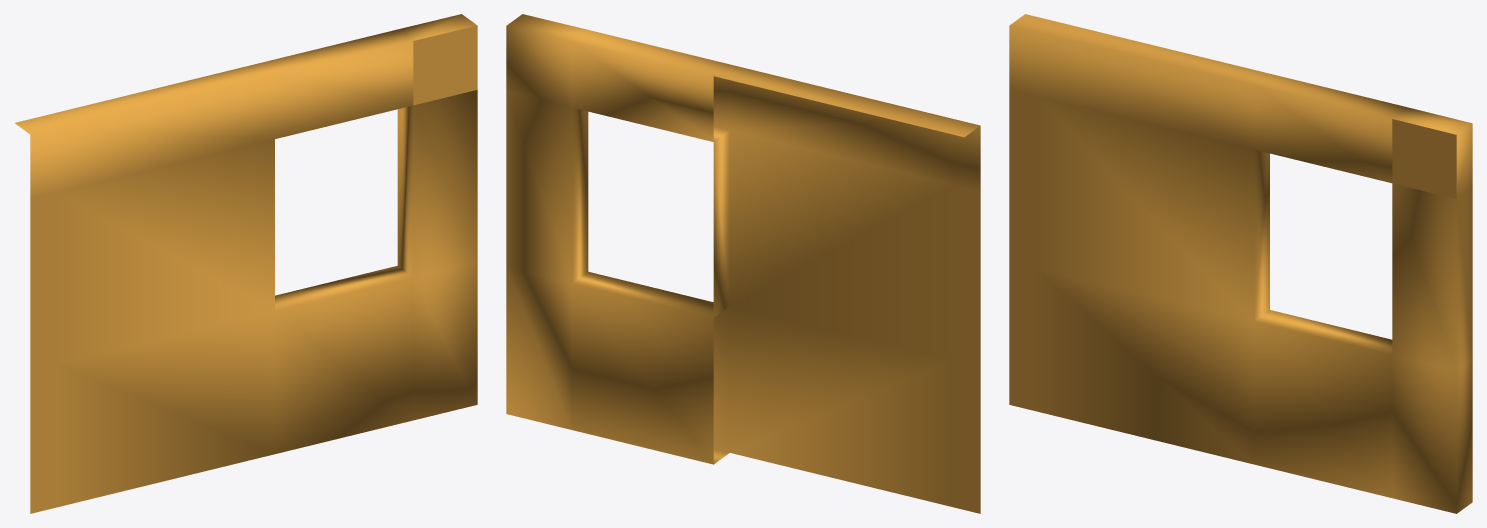
The model's file is InnenWand.fbx.
3 renders of one model, left to right at view 1: azimuth 30°, elevation 25°; view 2: azimuth 150°, elevation 25°; view 3: azimuth 330°, elevation 25°, orthographic. The views are drawn at different scales.
Parts seen in each view (by area): view 1: Aussenwand2.002; view 2: Aussenwand2.002; view 3: Aussenwand2.002.
Boxes of the visible parts, box(x1,y1,x2,y2) form: Aussenwand2.002: box(15, 14, 477, 513); Aussenwand2.002: box(506, 14, 980, 513); Aussenwand2.002: box(1009, 14, 1472, 513).
Size of the model in its own units: 3.27 by 2.65 by 0.2.
